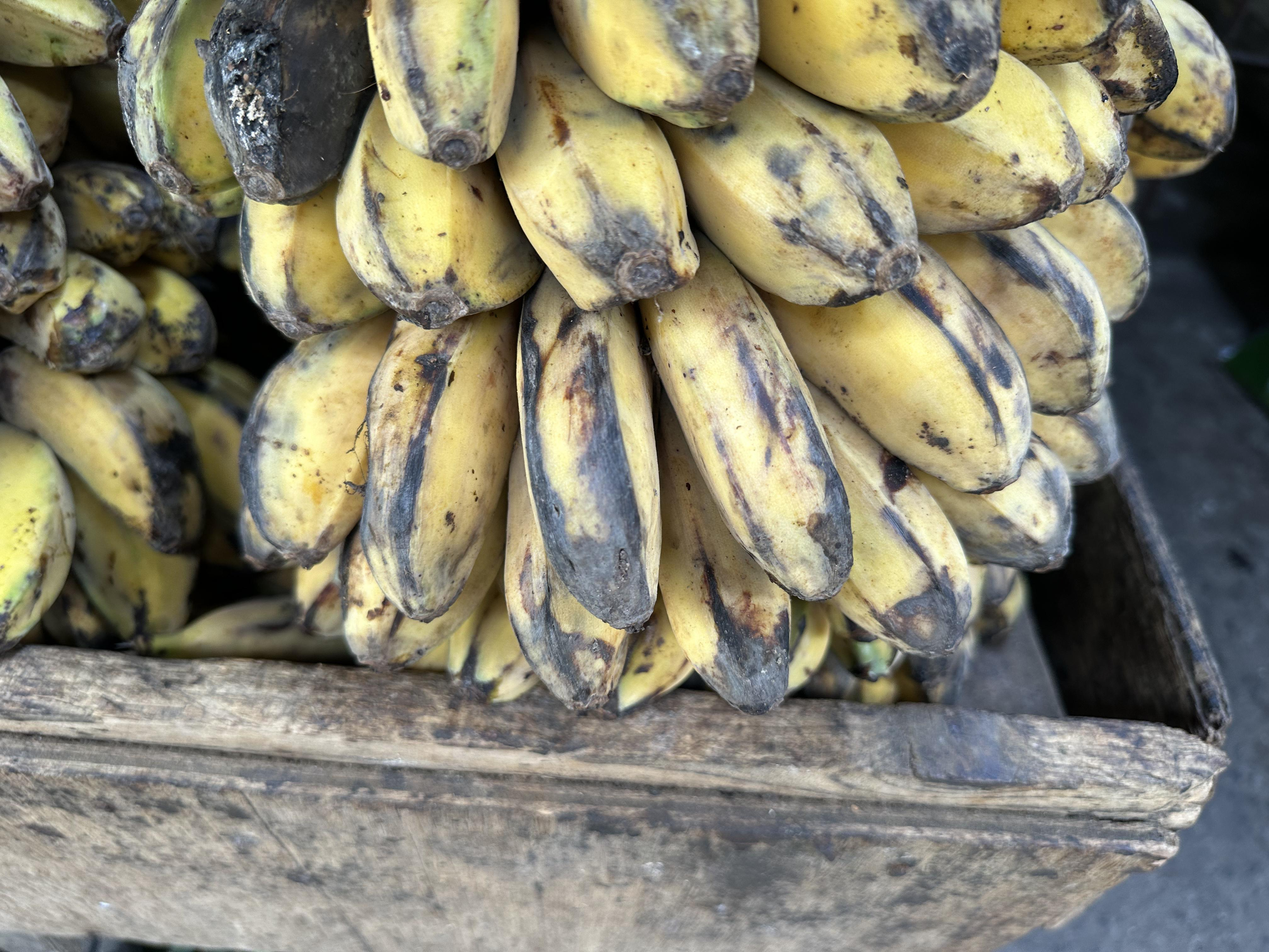ripe: (240, 199, 1148, 715), (120, 0, 1234, 340)
underripe: (0, 0, 218, 375), (0, 346, 258, 651)
